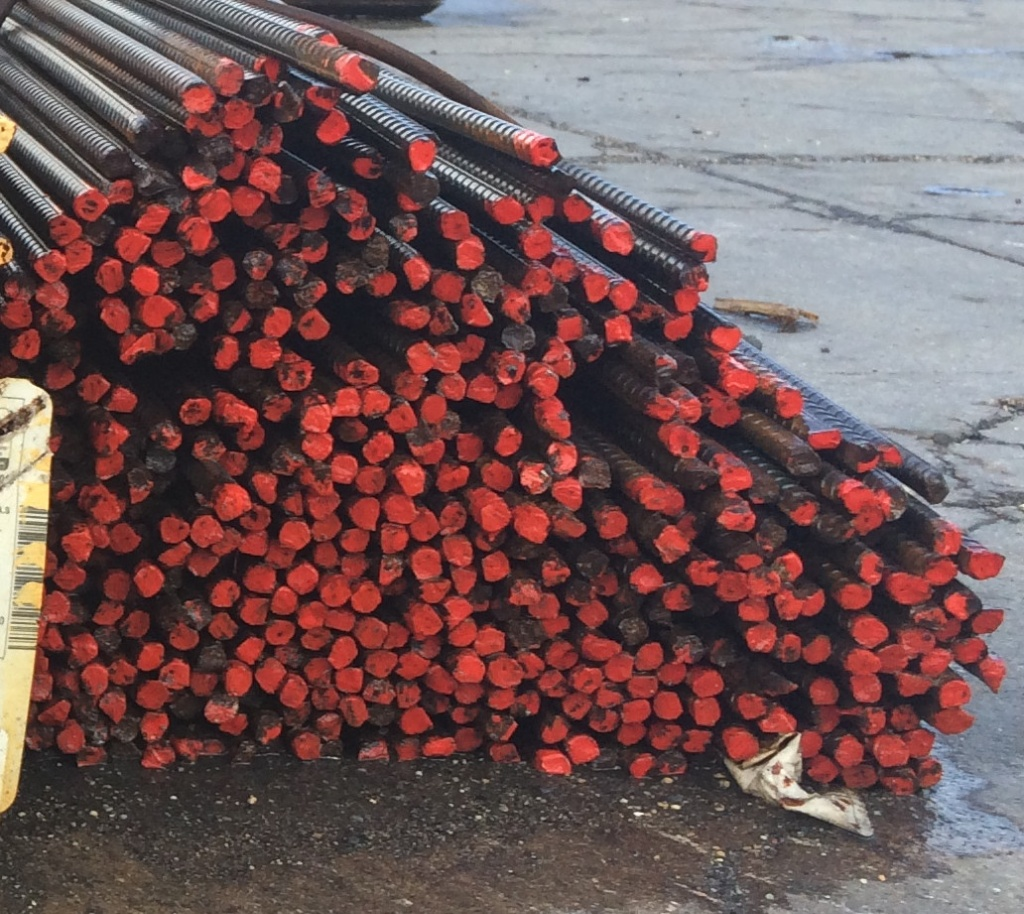dipstick: (213, 482, 250, 519), (678, 460, 718, 491), (341, 58, 378, 91), (889, 574, 931, 603), (513, 508, 548, 542), (656, 527, 688, 564), (264, 219, 301, 249), (275, 83, 303, 122), (142, 296, 176, 328), (488, 657, 523, 688), (62, 528, 92, 564), (506, 621, 543, 650), (875, 734, 908, 766), (629, 564, 663, 595), (580, 454, 610, 489), (337, 258, 366, 294), (430, 273, 466, 302), (738, 693, 774, 722), (543, 346, 575, 378), (316, 112, 349, 143), (200, 189, 231, 222), (473, 270, 504, 303), (545, 640, 579, 670), (854, 618, 888, 648), (935, 708, 974, 734), (256, 659, 284, 695), (184, 82, 216, 113), (76, 189, 107, 221), (263, 307, 294, 339), (280, 359, 312, 390), (190, 515, 222, 546), (429, 303, 460, 335), (461, 296, 493, 327), (601, 224, 633, 255), (520, 464, 551, 496), (180, 219, 210, 252), (720, 504, 753, 534), (944, 590, 982, 616), (248, 339, 282, 368), (877, 486, 906, 520), (135, 564, 163, 599), (725, 367, 756, 398), (97, 425, 129, 455), (363, 432, 393, 464), (410, 550, 442, 580), (708, 398, 740, 428), (719, 462, 751, 492), (748, 568, 780, 598), (100, 299, 129, 332), (205, 695, 238, 724), (548, 440, 577, 473), (305, 461, 333, 495), (406, 341, 434, 375), (411, 508, 439, 542), (76, 375, 111, 402), (969, 552, 1005, 578), (36, 252, 66, 283), (110, 523, 140, 554), (466, 373, 496, 404), (569, 735, 600, 765), (294, 280, 326, 309), (41, 592, 70, 624), (881, 770, 918, 795), (356, 151, 389, 179), (409, 138, 437, 171), (389, 401, 417, 434), (502, 324, 535, 352), (709, 636, 742, 664), (384, 497, 418, 524), (435, 465, 469, 492), (725, 733, 759, 760), (395, 373, 430, 399), (40, 309, 76, 334), (299, 310, 329, 340), (139, 680, 169, 710), (288, 563, 318, 593), (541, 406, 571, 436), (669, 428, 699, 458), (69, 633, 98, 664), (244, 565, 275, 594), (321, 576, 350, 607), (673, 634, 704, 663), (849, 442, 878, 473), (118, 233, 150, 261), (151, 239, 183, 267), (150, 422, 182, 450), (775, 386, 803, 418), (188, 112, 221, 139), (160, 127, 187, 160), (183, 162, 216, 189), (345, 360, 378, 387), (611, 279, 638, 312), (820, 517, 853, 544), (582, 635, 619, 659), (192, 437, 227, 462), (279, 484, 304, 519), (937, 683, 972, 708), (302, 404, 332, 433), (412, 605, 442, 634), (530, 369, 559, 399), (603, 314, 633, 343), (482, 501, 511, 531), (717, 572, 747, 601), (746, 622, 776, 651), (189, 292, 220, 320), (181, 397, 212, 425), (55, 563, 86, 591), (273, 447, 304, 475), (302, 433, 333, 461), (362, 388, 390, 419), (329, 637, 357, 668), (351, 497, 379, 528), (352, 582, 380, 613), (403, 258, 431, 289), (524, 229, 552, 260), (577, 552, 608, 580), (803, 634, 831, 665), (756, 521, 787, 549), (216, 63, 243, 95), (49, 217, 81, 244), (279, 521, 311, 548), (400, 707, 432, 734), (381, 523, 408, 555), (397, 465, 424, 497), (648, 723, 680, 750), (955, 638, 987, 665), (128, 469, 153, 503), (569, 668, 603, 693), (357, 465, 386, 494), (456, 241, 485, 270), (531, 138, 560, 167), (751, 475, 780, 504), (103, 151, 133, 179), (3, 272, 33, 300), (138, 206, 168, 234), (332, 388, 360, 418), (181, 598, 209, 628), (690, 232, 718, 262), (523, 268, 553, 296), (597, 510, 627, 538), (475, 628, 505, 656), (852, 674, 882, 702), (1, 301, 32, 328), (262, 394, 293, 421), (81, 663, 108, 694), (562, 194, 593, 221), (97, 261, 123, 293), (210, 257, 236, 289), (214, 338, 240, 370), (363, 679, 395, 705), (493, 198, 525, 224), (840, 583, 872, 609), (788, 450, 820, 476), (983, 655, 1006, 691), (552, 511, 585, 536), (847, 650, 881, 674), (234, 187, 263, 215), (160, 661, 189, 689), (680, 263, 709, 291), (540, 284, 568, 313), (502, 293, 530, 322), (664, 312, 693, 340), (482, 553, 510, 582), (579, 602, 608, 630), (634, 643, 662, 672), (858, 707, 887, 735), (391, 212, 418, 242), (131, 266, 158, 296), (300, 231, 327, 261), (210, 580, 240, 607), (412, 439, 442, 466), (442, 211, 469, 241), (444, 538, 474, 565), (541, 560, 571, 587), (486, 714, 516, 741), (790, 500, 820, 527), (249, 165, 280, 191), (308, 175, 334, 206), (226, 666, 252, 697), (281, 676, 307, 707), (398, 654, 429, 680), (692, 671, 723, 697), (857, 553, 883, 584), (365, 651, 397, 676), (453, 657, 485, 682), (837, 735, 862, 767), (687, 560, 720, 584), (224, 306, 252, 334), (140, 713, 168, 741), (484, 463, 512, 491), (907, 730, 935, 758), (812, 705, 840, 733), (308, 86, 337, 113), (224, 100, 253, 127), (93, 495, 120, 524), (121, 611, 150, 638), (136, 642, 163, 671), (359, 620, 386, 649), (582, 274, 609, 303), (604, 654, 633, 681), (655, 691, 682, 720), (663, 584, 692, 611), (776, 590, 803, 619), (145, 328, 175, 354), (242, 252, 272, 278), (108, 388, 139, 413), (918, 758, 943, 789), (903, 630, 934, 655), (136, 121, 160, 153), (36, 284, 68, 308), (971, 610, 1003, 634), (843, 766, 876, 789), (12, 332, 39, 360), (46, 363, 74, 390), (277, 258, 305, 285), (243, 505, 271, 532), (341, 699, 368, 727), (497, 356, 524, 384), (448, 620, 476, 647), (620, 619, 648, 646), (879, 645, 906, 673), (217, 150, 243, 179), (209, 613, 238, 639), (305, 658, 331, 687), (265, 620, 294, 646), (299, 601, 325, 630), (312, 516, 341, 542), (435, 343, 461, 372), (530, 593, 559, 619), (810, 678, 839, 704), (854, 507, 880, 536), (197, 645, 227, 670), (109, 718, 139, 743), (340, 554, 370, 579), (400, 305, 430, 330), (711, 327, 741, 352), (683, 729, 713, 754), (921, 652, 951, 677), (761, 710, 795, 732), (897, 675, 931, 697), (160, 518, 191, 542), (309, 493, 340, 517), (260, 123, 283, 155), (253, 473, 276, 505), (233, 122, 260, 149), (363, 238, 390, 265), (369, 268, 396, 295), (103, 573, 130, 600), (242, 598, 269, 625), (270, 588, 297, 615), (439, 373, 466, 400), (236, 638, 264, 664), (420, 395, 446, 423), (440, 505, 466, 533), (554, 484, 582, 510), (775, 555, 801, 583), (92, 602, 125, 624), (338, 191, 363, 220), (66, 244, 91, 273), (267, 543, 296, 568), (457, 433, 482, 462), (236, 426, 266, 450), (540, 752, 570, 776), (738, 598, 768, 622), (733, 544, 763, 568), (657, 662, 688, 685), (651, 399, 682, 422), (927, 562, 958, 585), (225, 405, 257, 427), (109, 659, 136, 685), (57, 726, 84, 752), (255, 715, 281, 742), (541, 716, 567, 743), (564, 694, 591, 720), (240, 532, 268, 557), (332, 455, 357, 483), (100, 693, 125, 721), (385, 622, 410, 650), (379, 555, 404, 583), (540, 670, 565, 698), (694, 698, 719, 726), (891, 705, 919, 730), (414, 176, 438, 205), (420, 578, 449, 602), (449, 570, 478, 594), (912, 606, 945, 627), (844, 483, 867, 513), (188, 554, 219, 576), (158, 543, 189, 565), (337, 419, 368, 441), (301, 629, 332, 651), (808, 430, 842, 450), (214, 527, 240, 553), (496, 429, 522, 455), (496, 383, 522, 409), (640, 484, 666, 510), (246, 81, 273, 106), (167, 192, 192, 219), (55, 670, 80, 697), (41, 701, 68, 726), (460, 334, 485, 361), (170, 625, 198, 649), (342, 528, 370, 552), (677, 355, 701, 383), (925, 475, 949, 503), (628, 676, 657, 699), (508, 583, 541, 603), (589, 709, 619, 731), (337, 668, 362, 694), (396, 682, 421, 708), (529, 196, 554, 222), (552, 256, 577, 282), (428, 667, 454, 692), (273, 177, 297, 204), (30, 674, 54, 701), (313, 543, 340, 567), (248, 294, 294, 308), (26, 726, 54, 749), (318, 713, 341, 741), (566, 582, 594, 605), (682, 396, 705, 424), (809, 758, 837, 781), (141, 748, 173, 768), (358, 740, 390, 760), (413, 635, 442, 657), (621, 700, 650, 722), (454, 683, 484, 704), (488, 744, 521, 763), (224, 452, 249, 477), (295, 734, 320, 759), (515, 691, 540, 716), (96, 626, 120, 652), (190, 671, 216, 695), (74, 699, 100, 723), (557, 317, 581, 343), (651, 356, 675, 382), (311, 687, 338, 710), (580, 335, 603, 362), (435, 412, 458, 439), (777, 634, 800, 661), (802, 589, 825, 616), (300, 207, 328, 229), (325, 610, 353, 632), (445, 599, 474, 620), (146, 450, 176, 470), (488, 687, 513, 711), (594, 572, 619, 596), (656, 755, 686, 775), (349, 216, 375, 239), (108, 180, 134, 203), (675, 290, 701, 313), (263, 58, 290, 80), (221, 715, 249, 736), (176, 321, 196, 350), (52, 479, 77, 502), (277, 644, 302, 667), (543, 617, 570, 638), (618, 723, 645, 744), (476, 531, 504, 551), (424, 737, 455, 755), (630, 754, 653, 778), (521, 653, 543, 678), (800, 732, 822, 757), (455, 729, 481, 750), (175, 738, 202, 758), (665, 487, 683, 517), (84, 724, 107, 747), (368, 704, 393, 725), (282, 707, 308, 727), (596, 689, 623, 708), (397, 738, 420, 760), (46, 628, 67, 652), (135, 165, 156, 187), (937, 621, 962, 639), (452, 706, 478, 723), (881, 447, 901, 469), (427, 695, 450, 714), (160, 272, 179, 294), (121, 334, 135, 363), (92, 526, 108, 550)
